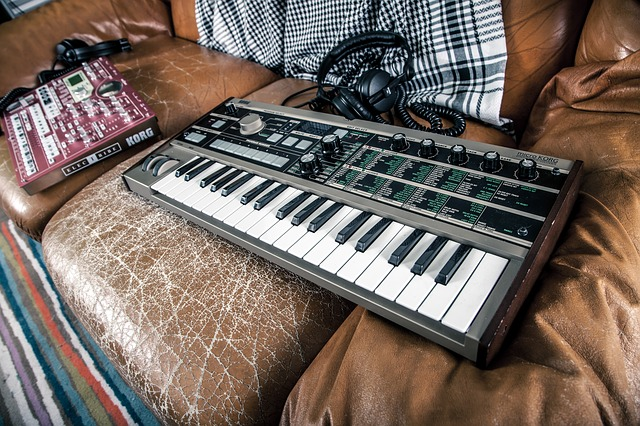headphones: (317, 32, 415, 120)
